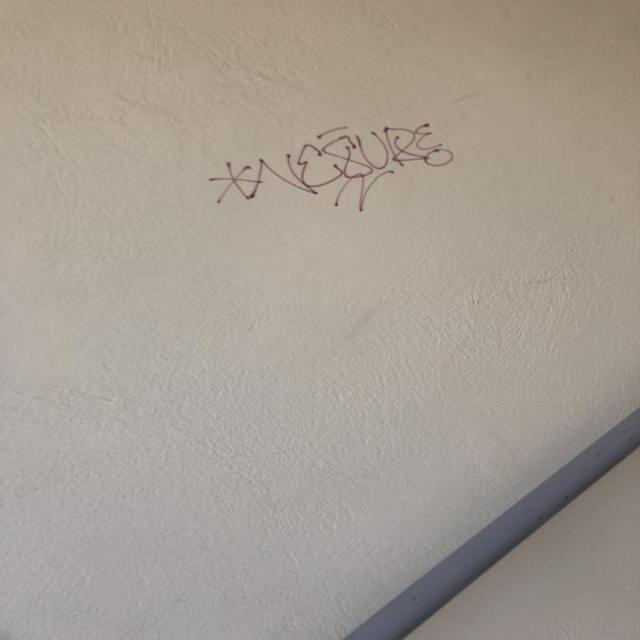nonspitting: (208, 124, 453, 211)
